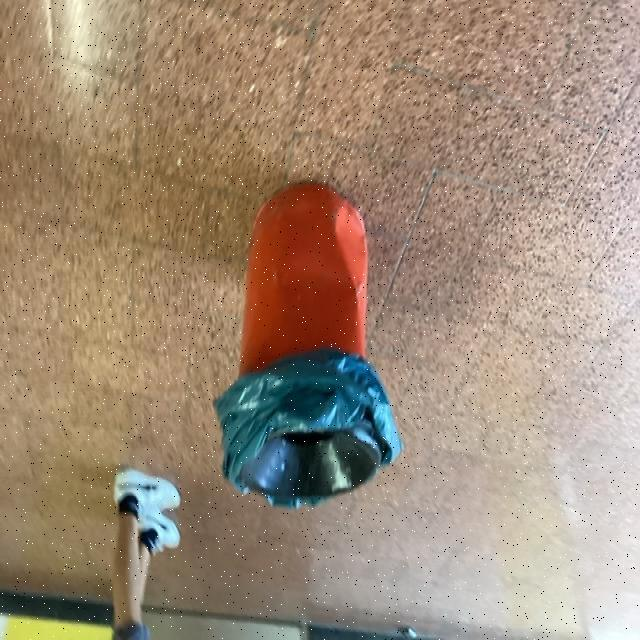garbage container: (186, 147, 410, 519)
